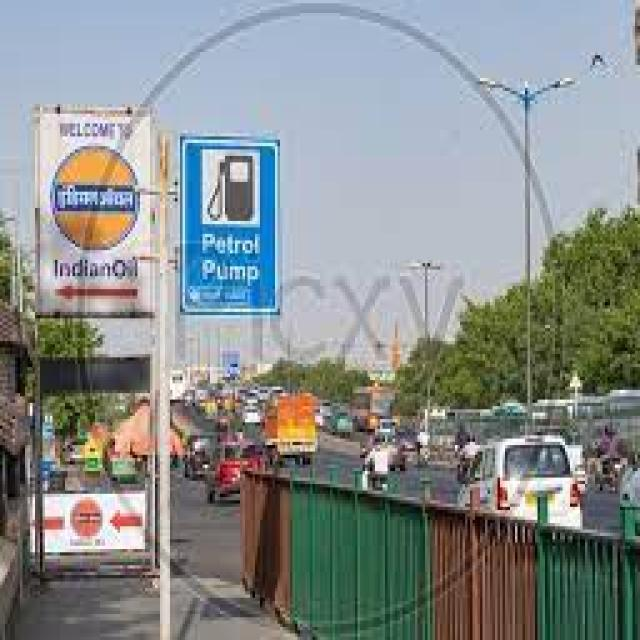petrol pump ahead: (185, 143, 275, 232)
